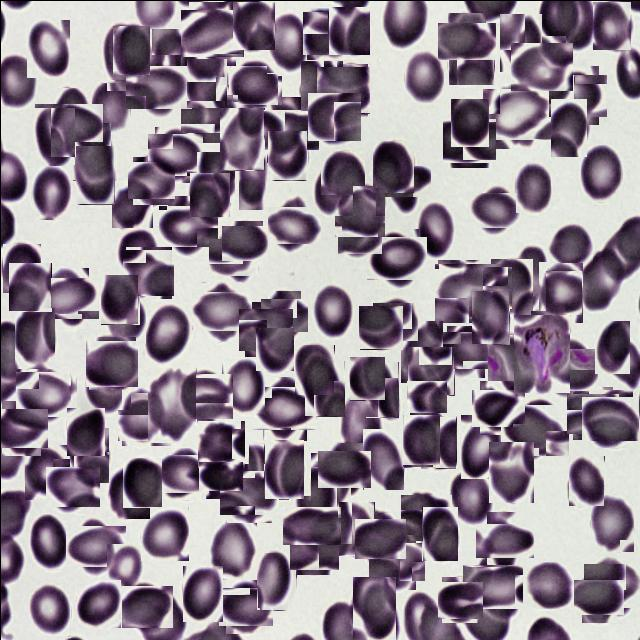red blood cell: (436, 260, 498, 324), (147, 367, 196, 442), (486, 84, 546, 144), (504, 400, 564, 460), (469, 557, 526, 615), (183, 5, 240, 60), (513, 38, 568, 94), (130, 59, 186, 114), (339, 390, 384, 457), (208, 517, 256, 579), (257, 381, 311, 435), (41, 95, 96, 148), (581, 245, 623, 314), (18, 366, 72, 419), (119, 389, 172, 443), (219, 107, 264, 170), (260, 102, 312, 156), (144, 303, 190, 364), (151, 28, 197, 89), (534, 265, 586, 318), (352, 576, 395, 640), (488, 441, 533, 502), (460, 413, 502, 478), (370, 232, 422, 284), (177, 370, 229, 422), (222, 466, 274, 518), (41, 272, 93, 323), (584, 392, 636, 443), (362, 428, 404, 490), (400, 320, 442, 382), (334, 185, 385, 236), (70, 520, 120, 572), (586, 560, 638, 610), (309, 90, 359, 142), (140, 506, 188, 560), (590, 494, 634, 552), (162, 200, 213, 250), (317, 64, 368, 114), (266, 10, 307, 72), (499, 13, 542, 72), (196, 286, 246, 336), (552, 70, 602, 120), (523, 560, 573, 610), (544, 344, 594, 394), (486, 262, 536, 312), (26, 19, 69, 77), (102, 20, 142, 82), (85, 354, 130, 409), (221, 357, 264, 414), (86, 338, 136, 387), (240, 304, 290, 353), (14, 307, 54, 368), (448, 32, 494, 85), (580, 144, 622, 202), (72, 122, 114, 180), (449, 468, 492, 524), (150, 130, 200, 178), (444, 116, 494, 164), (310, 452, 351, 510), (262, 439, 302, 498), (300, 60, 343, 114), (256, 552, 296, 610), (28, 582, 70, 637), (24, 444, 66, 499), (196, 420, 244, 468), (185, 89, 233, 137), (304, 9, 352, 57), (124, 248, 172, 296), (442, 17, 490, 65), (407, 346, 454, 395), (75, 145, 114, 204), (34, 107, 74, 164), (221, 582, 268, 630), (372, 537, 419, 585), (48, 462, 96, 509), (287, 501, 335, 548), (487, 334, 531, 385), (182, 565, 222, 621), (29, 513, 69, 569), (312, 282, 352, 338), (69, 427, 109, 483), (248, 443, 288, 499), (304, 360, 344, 416), (124, 582, 170, 630), (91, 78, 130, 134), (370, 140, 412, 192), (511, 246, 545, 310), (569, 389, 615, 436), (108, 466, 149, 518), (104, 290, 144, 343), (232, 62, 278, 108), (270, 202, 316, 248), (403, 491, 449, 537), (357, 515, 403, 561), (320, 446, 366, 492), (76, 579, 120, 627), (548, 220, 592, 268), (8, 262, 51, 311), (31, 165, 70, 219), (550, 98, 586, 156), (442, 327, 488, 372), (159, 450, 204, 496), (475, 384, 520, 430), (481, 517, 526, 563), (378, 158, 424, 203), (0, 404, 44, 451), (404, 49, 443, 102), (471, 290, 509, 344), (186, 58, 227, 108), (294, 344, 334, 395), (418, 201, 454, 257), (232, 1, 274, 49), (326, 6, 368, 54), (314, 162, 352, 215), (122, 457, 162, 507), (267, 130, 307, 180), (291, 528, 336, 572), (402, 414, 439, 467), (420, 415, 456, 469), (338, 501, 374, 555), (196, 151, 234, 202), (472, 188, 516, 232), (211, 235, 255, 279), (320, 150, 364, 194), (358, 304, 402, 348), (111, 180, 152, 227), (238, 135, 264, 209), (592, 1, 631, 50), (100, 274, 138, 324), (421, 506, 456, 560), (2, 243, 40, 292), (594, 320, 629, 373), (577, 575, 620, 618), (365, 361, 398, 417), (515, 162, 551, 213), (568, 455, 604, 506), (66, 407, 104, 455), (450, 98, 488, 146), (112, 25, 149, 74), (337, 212, 380, 254), (438, 578, 481, 620), (129, 158, 172, 200), (374, 300, 416, 342), (189, 172, 229, 216), (118, 227, 156, 273), (223, 222, 264, 264), (263, 294, 304, 334), (255, 327, 293, 370), (106, 543, 140, 590), (349, 356, 385, 400), (407, 378, 444, 414), (202, 458, 238, 494)
trophozoite: (513, 314, 569, 392)
